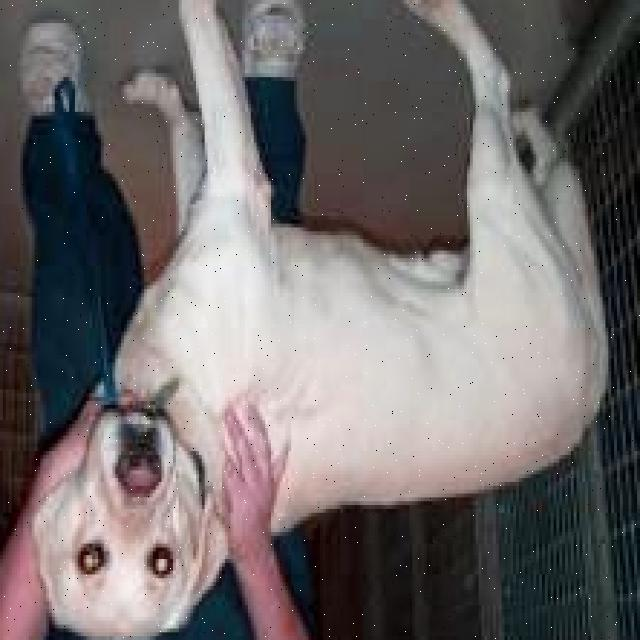Dog: (43, 389, 225, 640)
